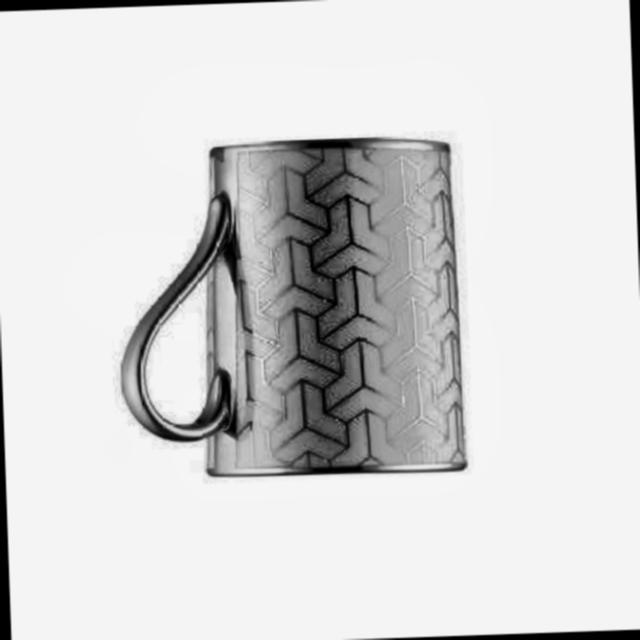Mug: (111, 129, 468, 485)
